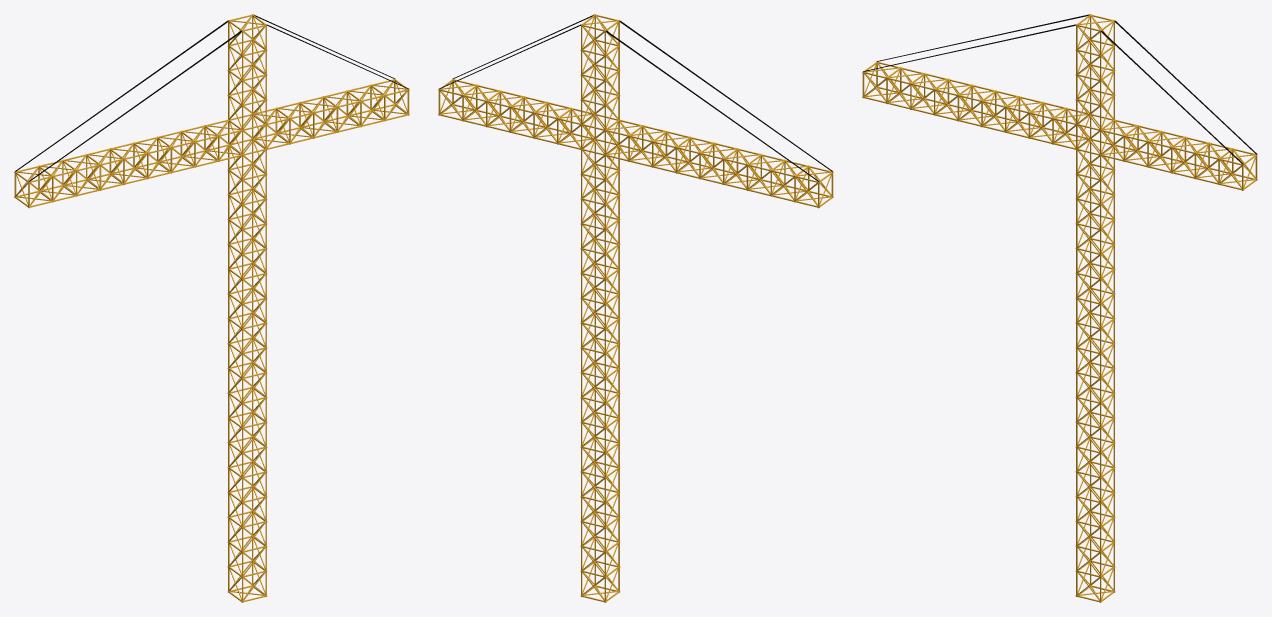
The model's file is crane.fbx.
The picture shows the model from 3 angles, left to right: view 1: azimuth 30°, elevation 25°; view 2: azimuth 150°, elevation 25°; view 3: azimuth 330°, elevation 25°; orthographic projection.
Visible parts, largest first — view 1: Cube.039; view 2: Cube.039; view 3: Cube.039.
Part boxes in pixels (left/top/right/bottom): Cube.039: left=14, top=14, right=409, bottom=602; Cube.039: left=438, top=14, right=833, bottom=602; Cube.039: left=862, top=14, right=1257, bottom=602.
Size of the model in its own units: 1607 by 2307 by 107.
